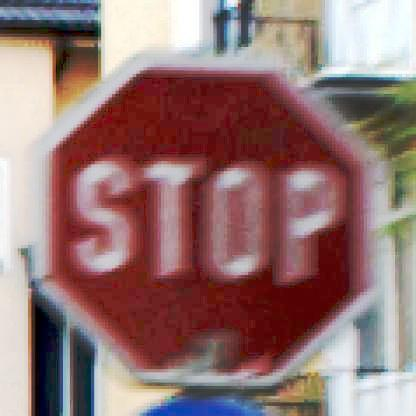Stop Sign: (25, 44, 387, 382)
